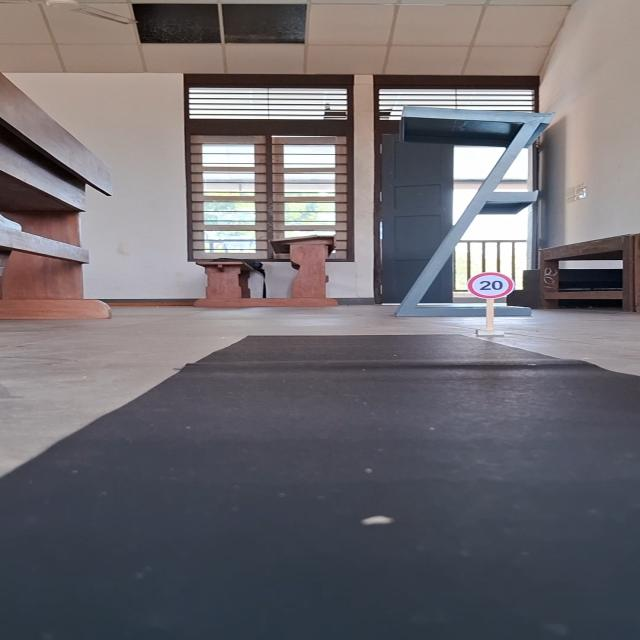Speed20: (462, 270, 516, 300)
